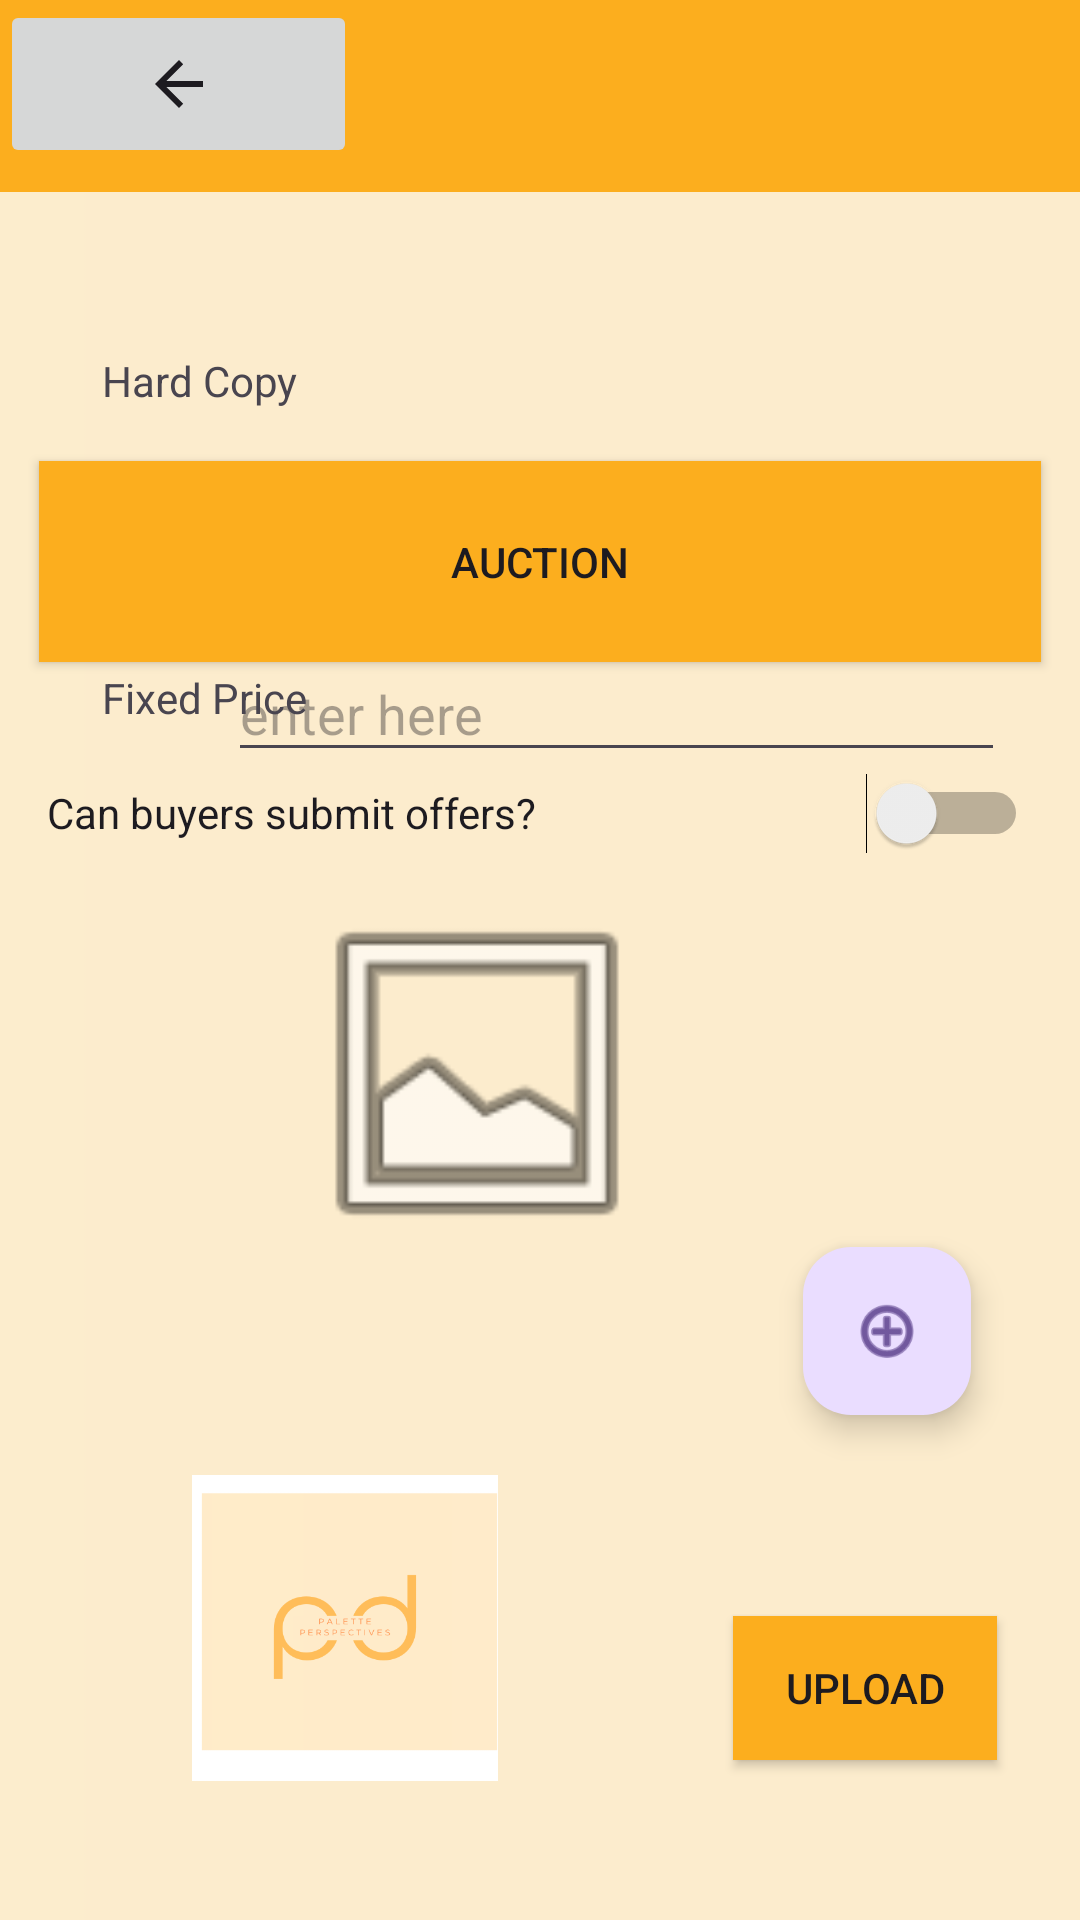

Named icons in this screenshot (1080 × 1920) and their bounding boxes, (x1, y1, x2, y2):
add: (803, 1247, 971, 1415)
